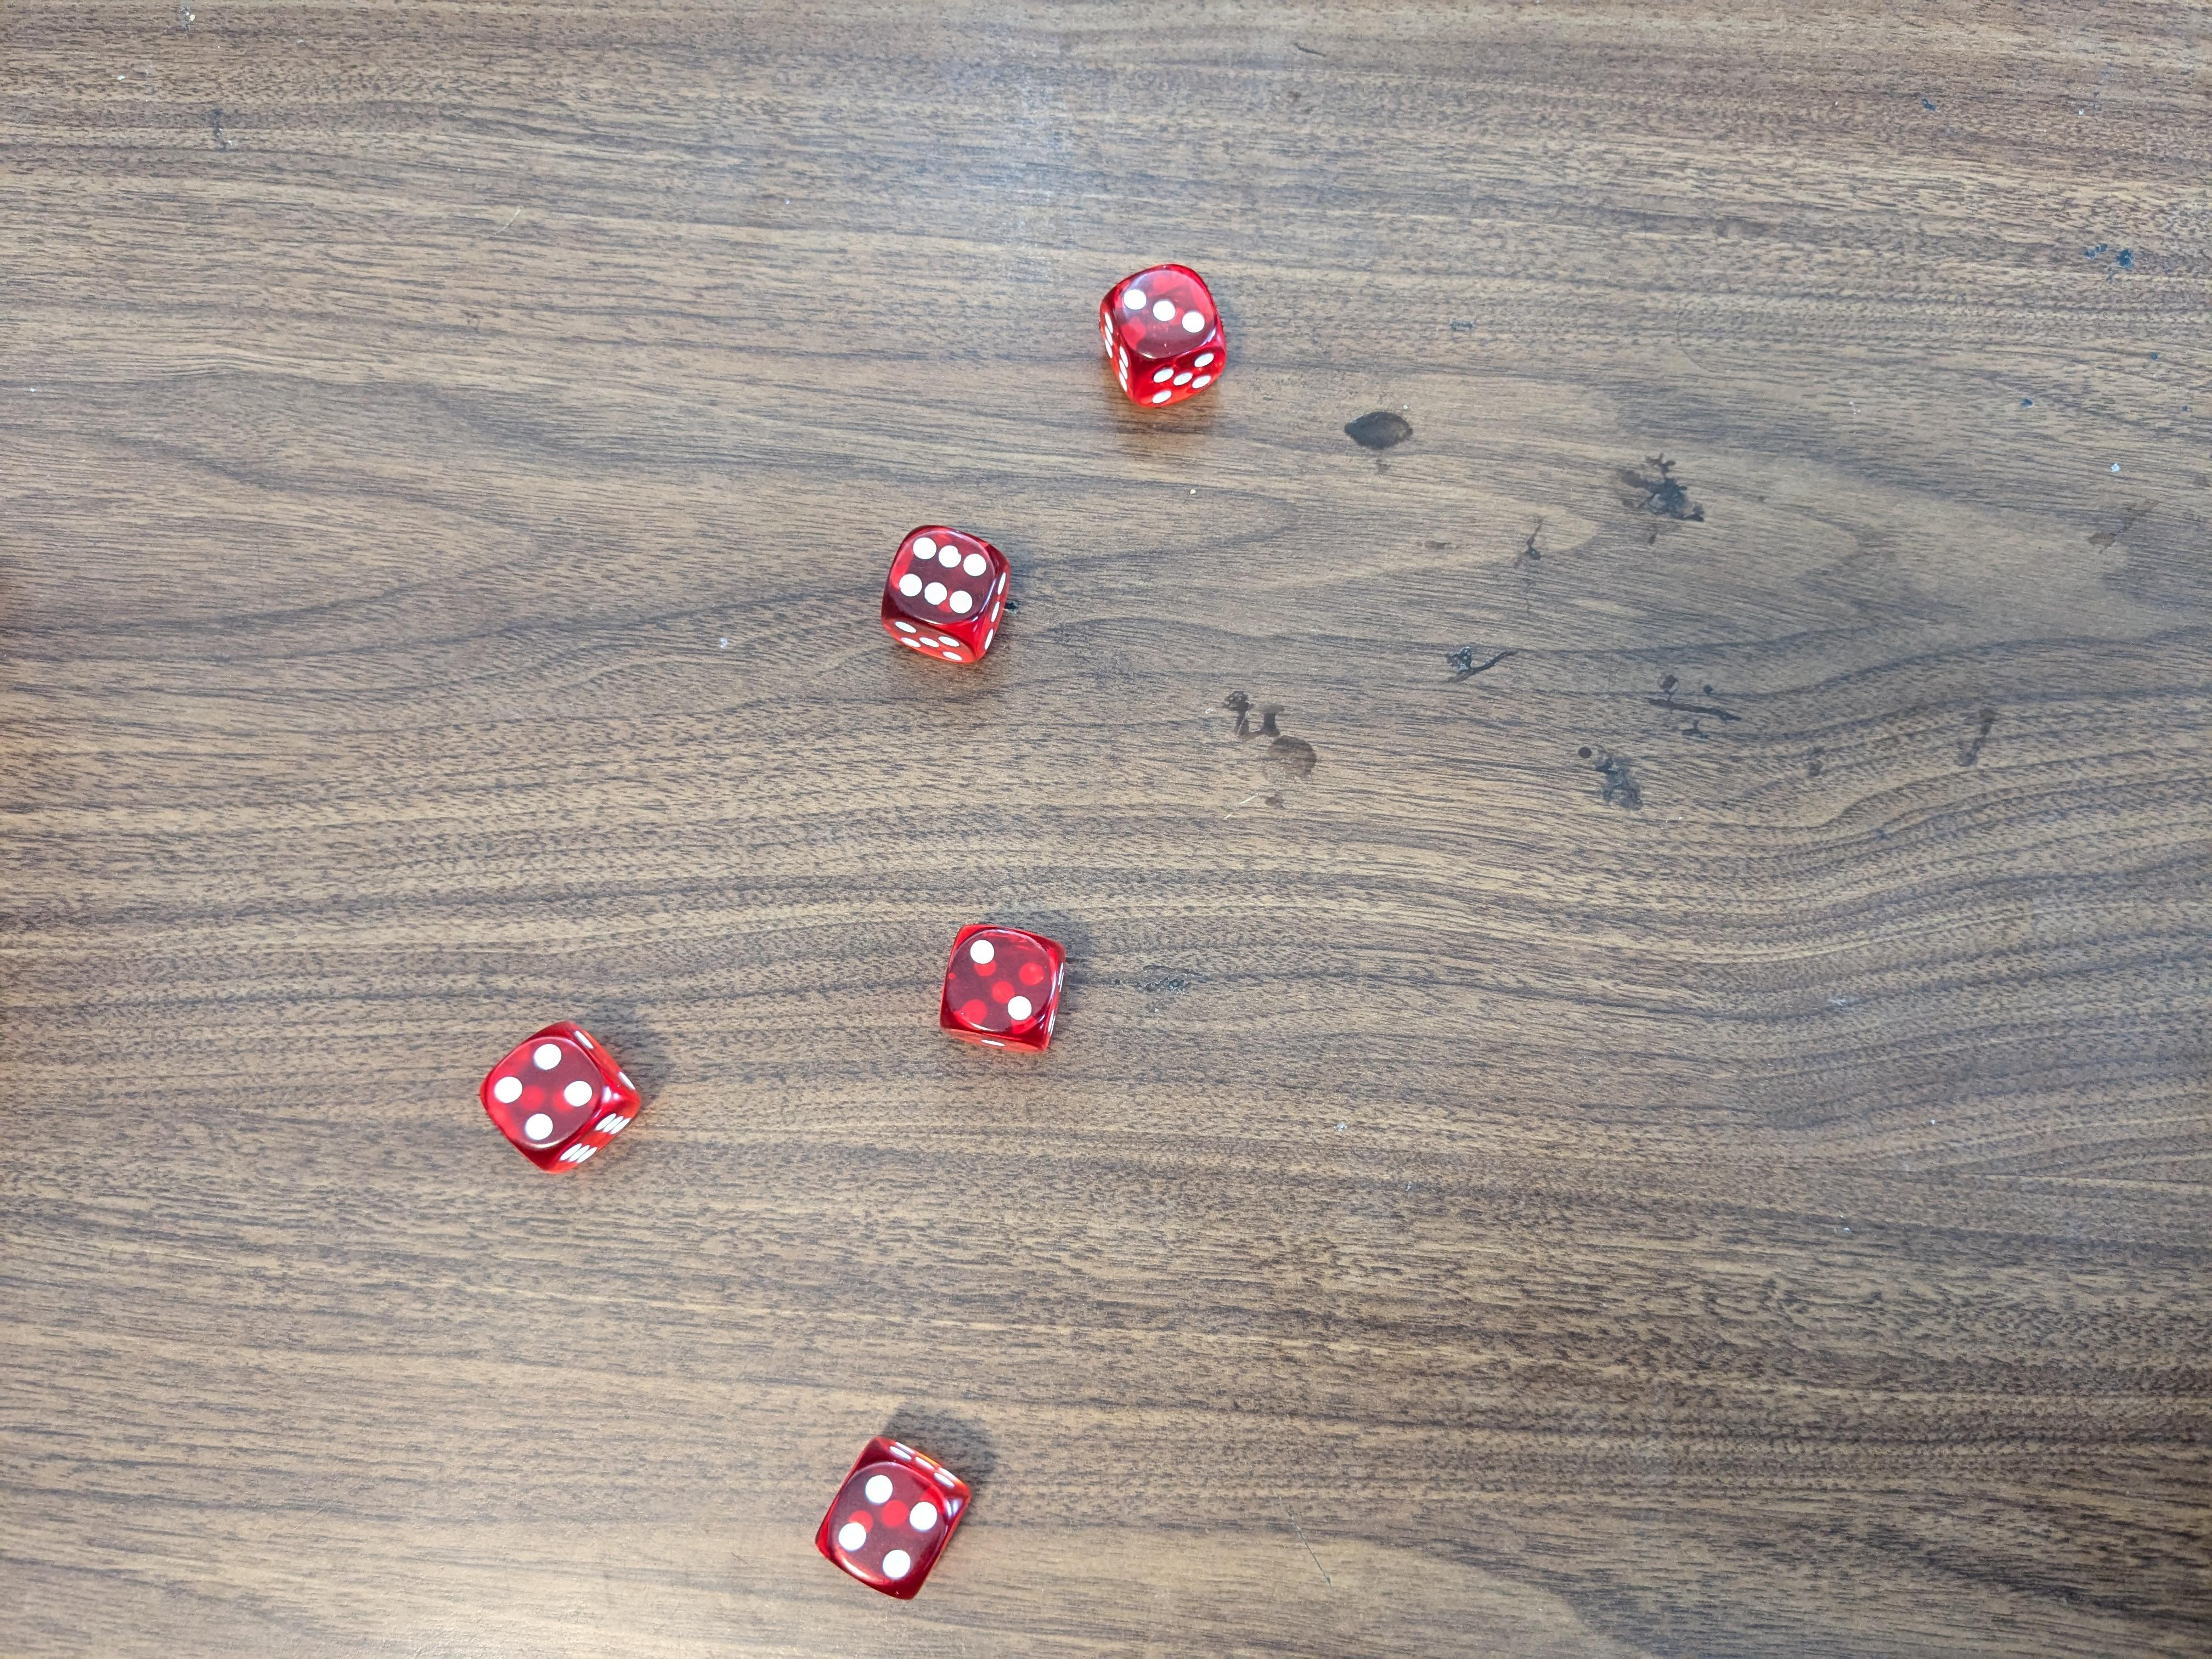four: (815, 1432, 981, 1605), (474, 1018, 644, 1182)
six: (878, 528, 1014, 669)
three: (1097, 258, 1230, 415)
two: (941, 918, 1071, 1054)
